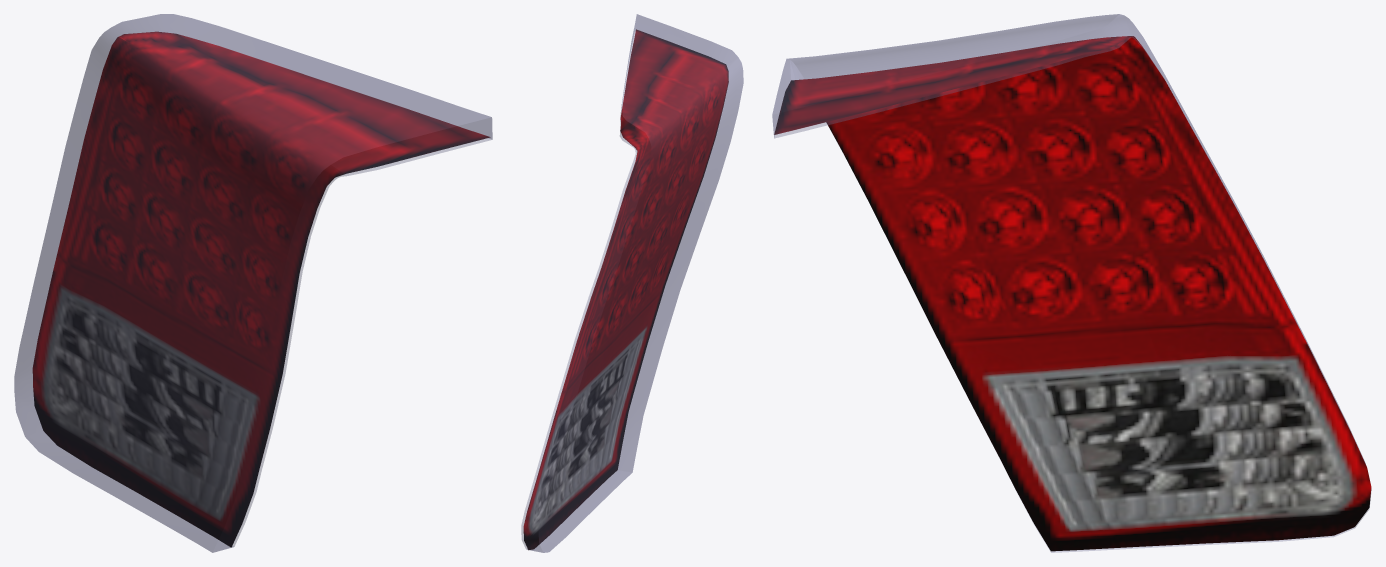
3 renders of one model, left to right at view 1: azimuth 30°, elevation 25°; view 2: azimuth 150°, elevation 25°; view 3: azimuth 270°, elevation 25°, orthographic. The views are drawn at different scales.
Visible parts, largest first — view 1: H026_541D_R_1_DTaSI_H026_541D_R, H026_541D_R_H026_541D_R_2_N; view 2: H026_541D_R_1_DTaSI_H026_541D_R, H026_541D_R_H026_541D_R_2_N; view 3: H026_541D_R_H026_541D_R_2_N, H026_541D_R_1_DTaSI_H026_541D_R.
Boxes of the visible parts, <box> form: H026_541D_R_1_DTaSI_H026_541D_R: <box>14,14,492,552</box>; H026_541D_R_H026_541D_R_2_N: <box>32,31,490,547</box>; H026_541D_R_1_DTaSI_H026_541D_R: <box>521,14,743,552</box>; H026_541D_R_H026_541D_R_2_N: <box>523,29,728,550</box>; H026_541D_R_H026_541D_R_2_N: <box>774,36,1371,551</box>; H026_541D_R_1_DTaSI_H026_541D_R: <box>772,14,1371,552</box>.
Size of the model in its own units: 11.65 by 27.69 by 29.65.
